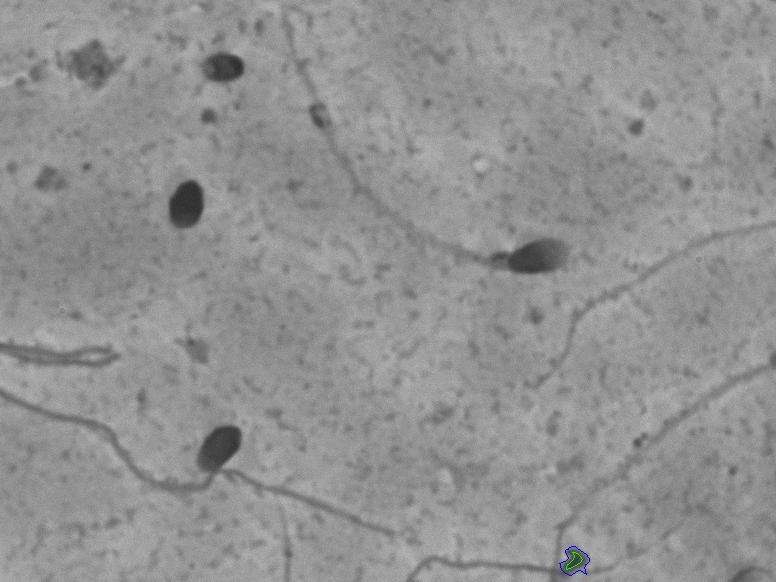Abnormal: (286, 28, 584, 307), (32, 351, 276, 512)
